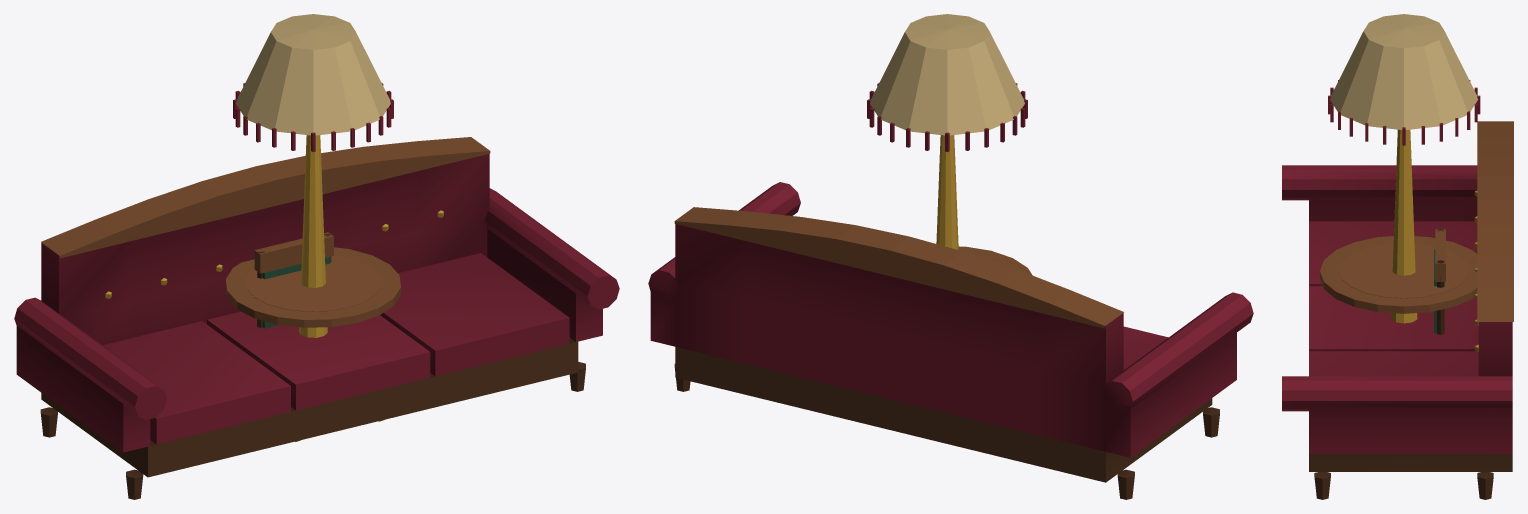
File: furn.glb
The picture shows the model from 3 angles, left to right: view 1: azimuth 30°, elevation 25°; view 2: azimuth 150°, elevation 25°; view 3: azimuth 270°, elevation 25°; orthographic projection. The views are drawn at different scales.
Visible parts, largest first — view 1: DYN_settee, DYN_lamp, DYN_table, DYN_chair; view 2: DYN_settee, DYN_lamp; view 3: DYN_settee, DYN_lamp, DYN_table, DYN_chair.
Boxes of the visible parts, <box> form: DYN_settee: <box>14,137,619,499</box>; DYN_lamp: <box>233,14,393,337</box>; DYN_table: <box>226,247,400,441</box>; DYN_chair: <box>254,232,333,327</box>; DYN_settee: <box>648,182,1253,499</box>; DYN_lamp: <box>867,14,1027,249</box>; DYN_settee: <box>1282,121,1513,499</box>; DYN_lamp: <box>1328,14,1480,323</box>; DYN_table: <box>1320,236,1477,313</box>; DYN_chair: <box>1435,229,1445,334</box>.
Size of the model in its own units: 3.94 by 2.99 by 1.71.
